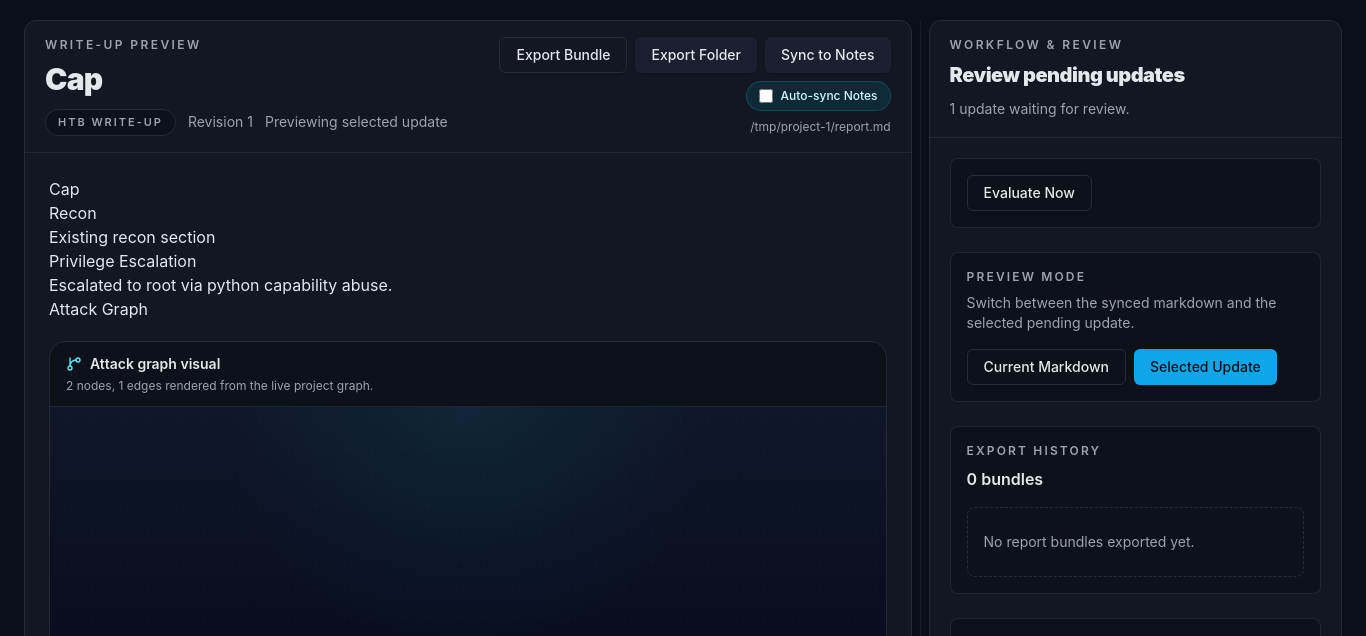
Test: ReportsPage › exports the current report assets to a workspace write-up folder
The width and height of the screenshot is (1366, 636).
Click the button "Export Folder" at (696, 55), box [635,37,757,73]
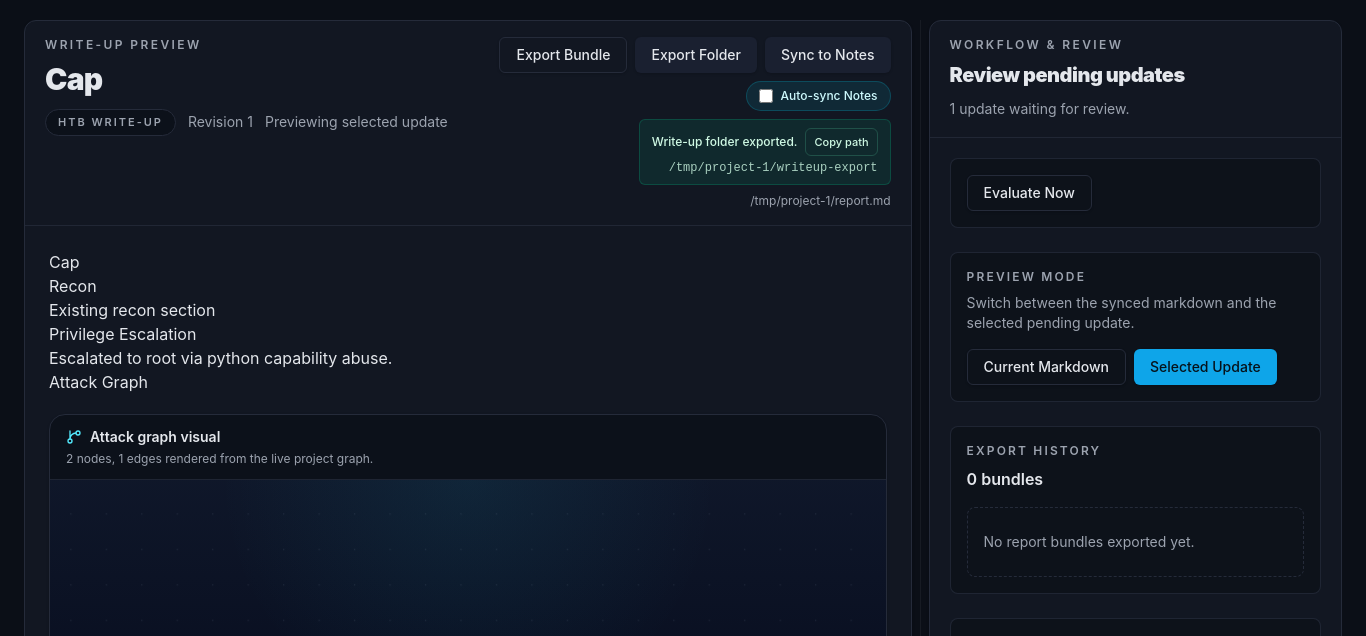
Now the text "Write-up folder exported." is shown, box [652,134,798,150]
Now the text "/tmp/project-1/writeup-export" is shown, box [652,160,878,176]
